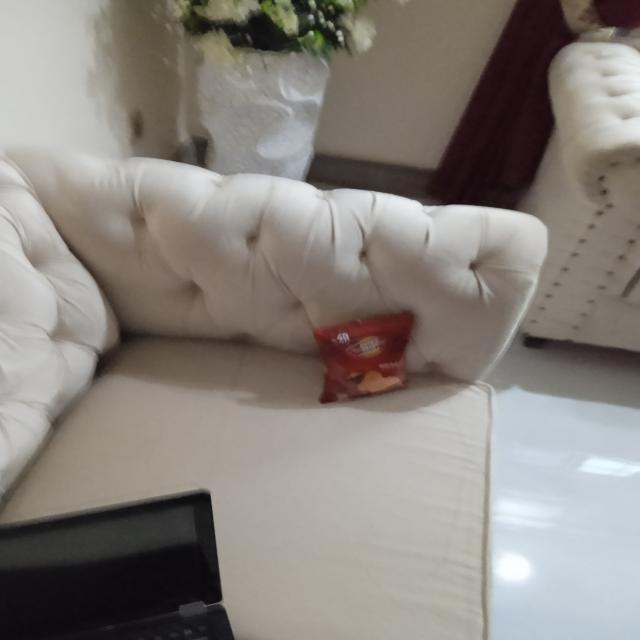Plastic: (312, 306, 416, 402)
